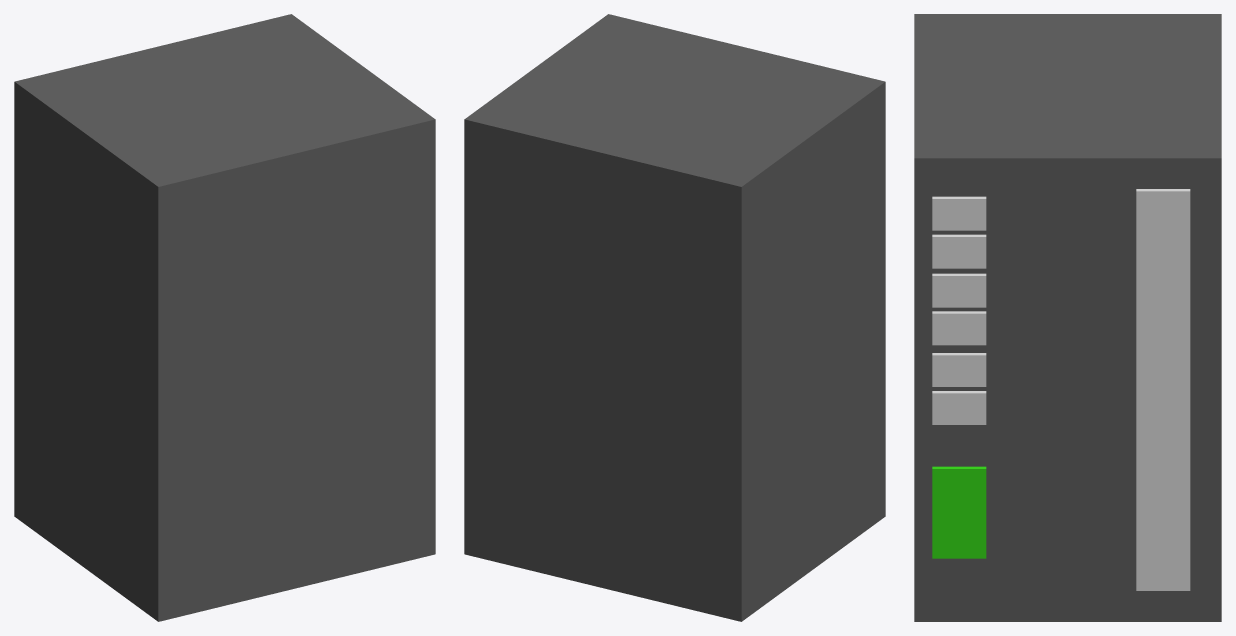
File: AMAX-controllerA.glb
3 views of the same model, side by side, from view 1: azimuth 30°, elevation 25°; view 2: azimuth 150°, elevation 25°; view 3: azimuth 270°, elevation 25° (orthographic). The views are drawn at different scales.
Parts seen in each view (by area): view 1: Cube.002; view 2: Cube.002; view 3: Cube.002, Cube.009, Cube.035, Cube.003, Cube.004, Cube.005, Cube.006, Cube.007, Cube.008.
Boxes of the visible parts, left/top/right/bottom form: Cube.002: left=14, top=14, right=435, bottom=621; Cube.002: left=464, top=14, right=885, bottom=621; Cube.002: left=914, top=14, right=1221, bottom=621; Cube.009: left=1136, top=189, right=1190, bottom=590; Cube.035: left=932, top=466, right=986, bottom=558; Cube.003: left=932, top=196, right=986, bottom=230; Cube.004: left=932, top=234, right=986, bottom=268; Cube.005: left=932, top=311, right=986, bottom=345; Cube.006: left=932, top=273, right=986, bottom=307; Cube.007: left=932, top=353, right=986, bottom=386; Cube.008: left=932, top=391, right=986, bottom=424.
Size of the model in its own units: 2.03 by 3 by 1.8.
